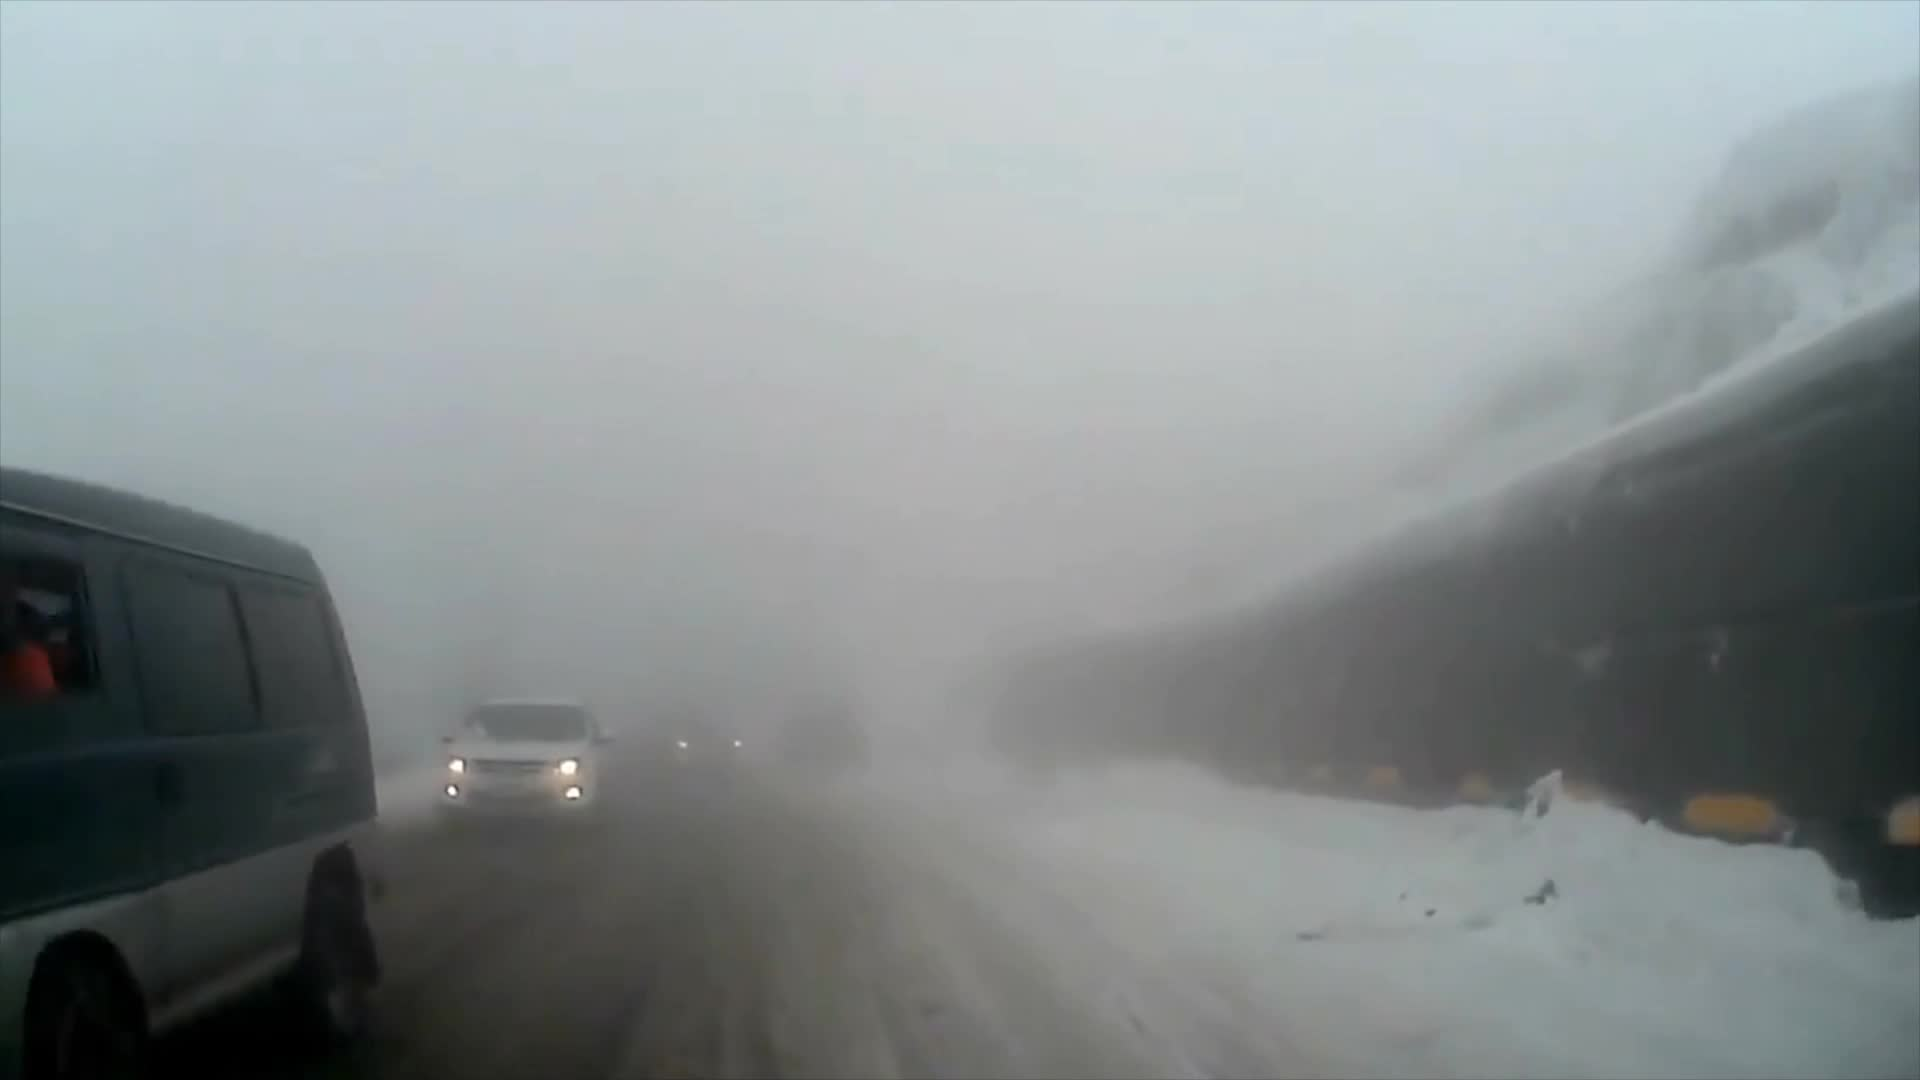vehicle: (0, 467, 390, 1080), (433, 696, 617, 839)
